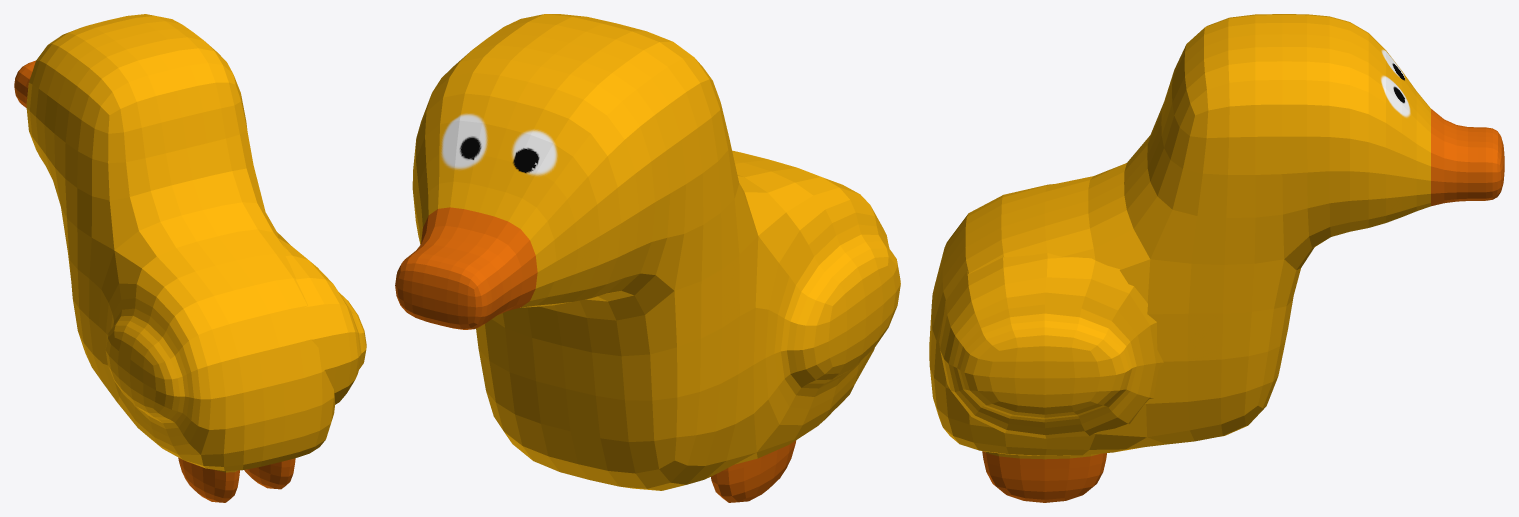
The model's file is Duck.fbx.
The picture shows the model from 3 angles, left to right: view 1: azimuth 30°, elevation 25°; view 2: azimuth 150°, elevation 25°; view 3: azimuth 270°, elevation 25°; orthographic projection. The views are drawn at different scales.
Parts seen in each view (by area): view 1: Cube; view 2: Cube; view 3: Cube.
Part boxes in pixels (box(x1,y1,x2,y2)): Cube: box(14, 14, 366, 502); Cube: box(395, 14, 900, 502); Cube: box(929, 14, 1504, 502).
Size of the model in its own units: 253 by 433 by 501.
